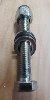FinishedAssembly: (10, 4, 42, 95)
